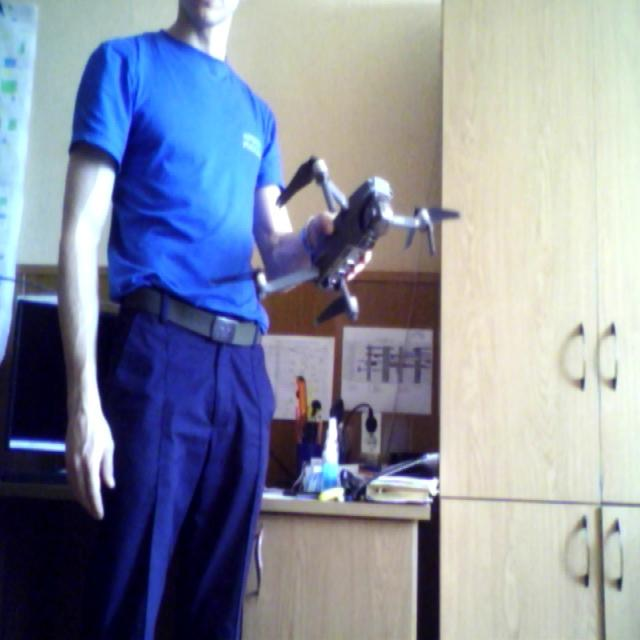drone: (242, 138, 462, 352)
